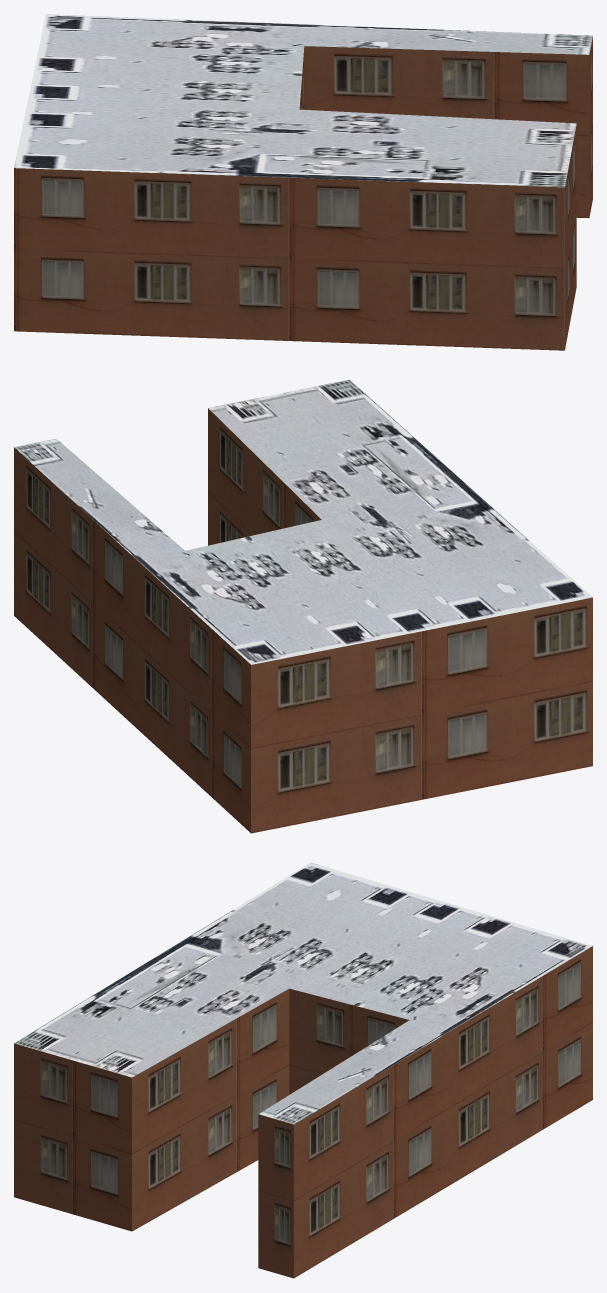
Rendered from ResTex__1112.fbx.
3 renders of one model, top to bottom at view 1: azimuth 30°, elevation 25°; view 2: azimuth 150°, elevation 25°; view 3: azimuth 270°, elevation 25°, orthographic. The views are drawn at different scales.
Parts seen in each view (by area): view 1: CityEngineMaterial_20_m, CityEngineMaterial_m; view 2: CityEngineMaterial_20_m, CityEngineMaterial_m; view 3: CityEngineMaterial_20_m, CityEngineMaterial_m.
Boxes of the visible parts, bbox=[...] form: CityEngineMaterial_20_m: bbox=[14, 37, 592, 350]; CityEngineMaterial_m: bbox=[14, 14, 592, 187]; CityEngineMaterial_20_m: bbox=[14, 408, 592, 833]; CityEngineMaterial_m: bbox=[14, 379, 592, 664]; CityEngineMaterial_20_m: bbox=[14, 946, 592, 1278]; CityEngineMaterial_m: bbox=[14, 862, 592, 1124].
Bounding box in the file's own units: 21.92 × 6 × 20.46.
Materials: 2 (2 with a texture image).
